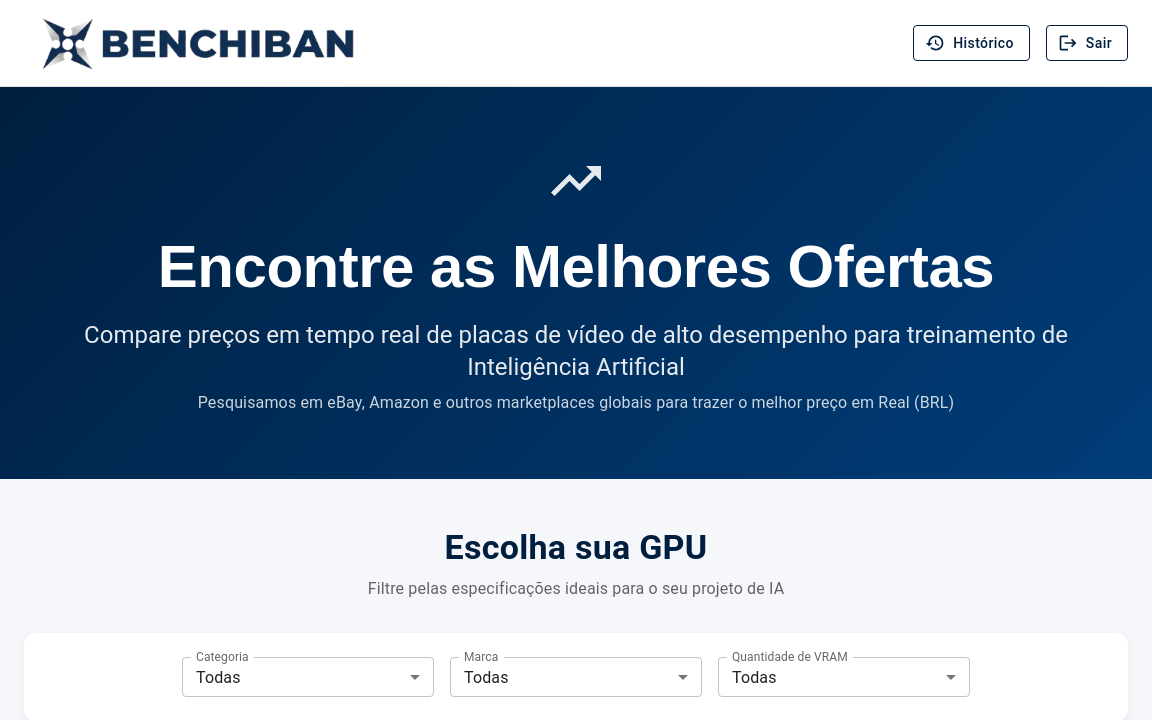
Test: DashboardPage › exibe mensagem quando nenhum card corresponde aos filtros
This screenshot has width=1152, height=720.
Note: Filtro Marca: Intel (só tem 16GB)
Click the dropdown named "Marca": click(486, 677) [464,668,509,686]
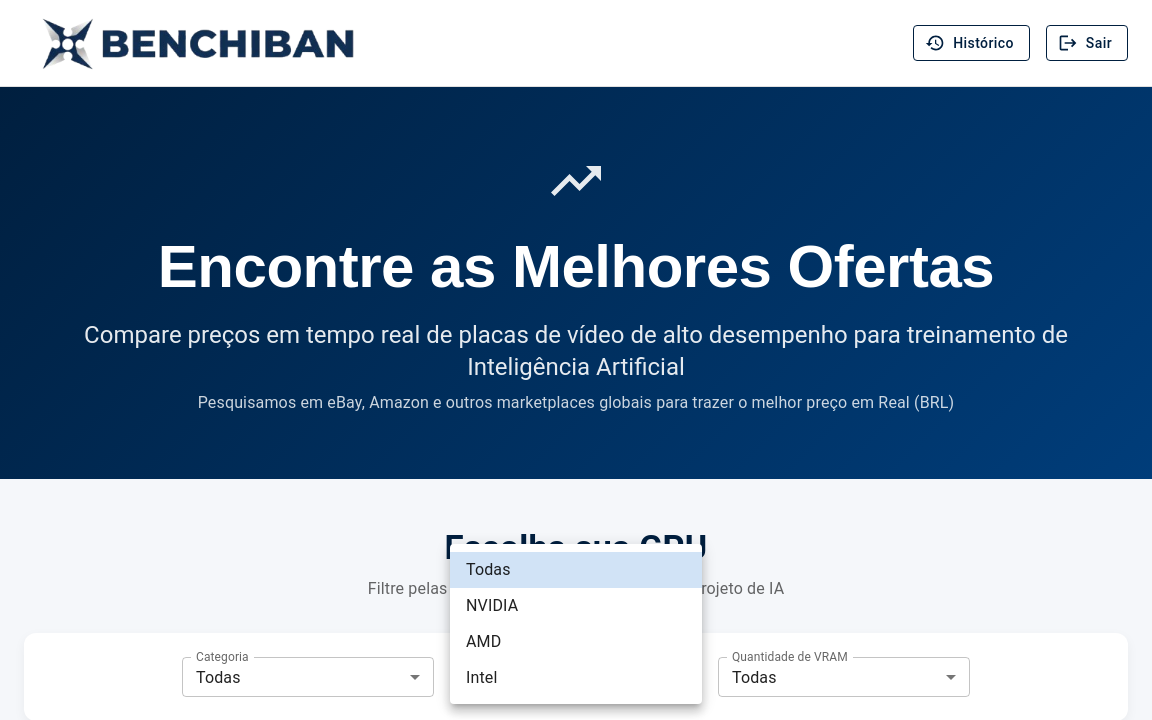
Click the option "Intel": click(482, 678) [466,668,498,687]
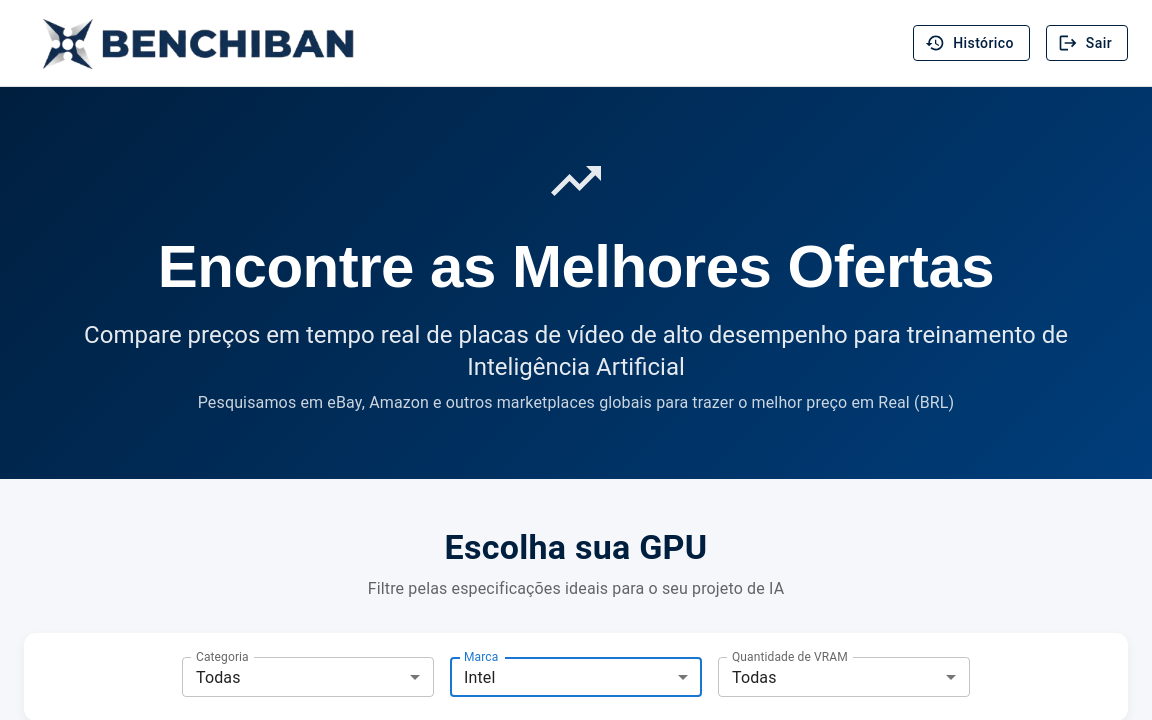
Note: Filtro VRAM: 48GB (Intel não tem 48GB)
Click the dropdown named "Quantidade de VRAM": click(754, 677) [732,668,777,686]
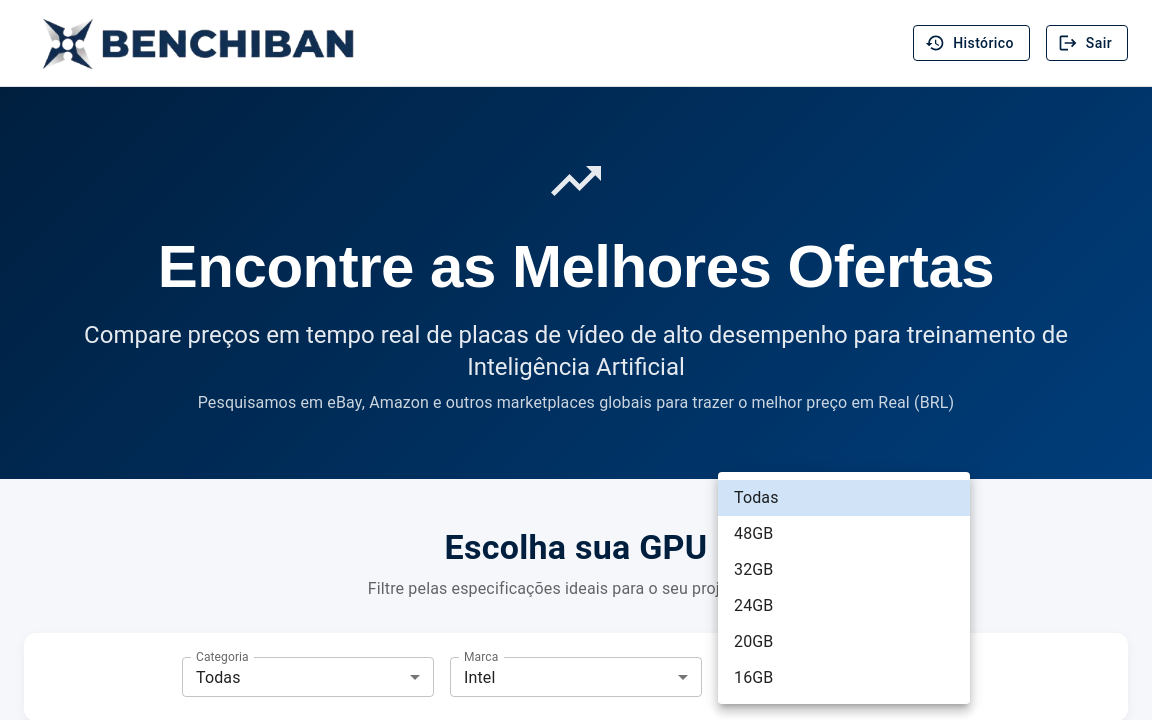
Click the option "48GB": click(754, 534) [734,524,774,543]
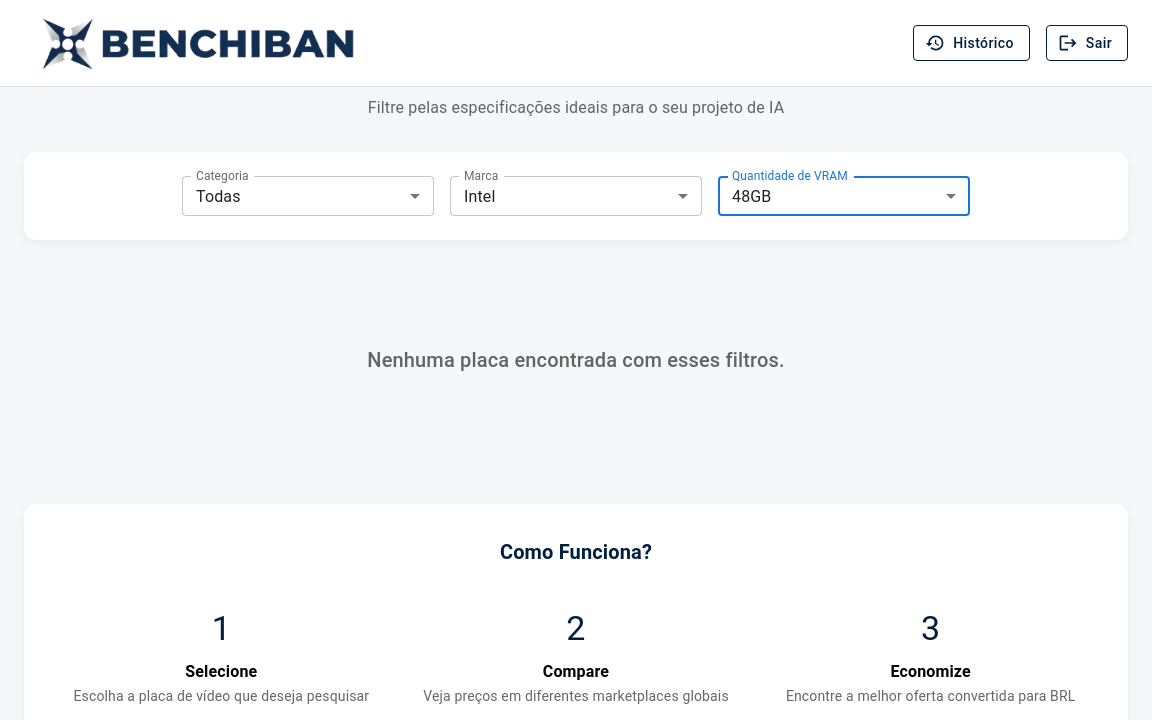
Check: the heading "Nenhuma placa encontrada com esses filtros." is shown, box [367,348,785,372]
